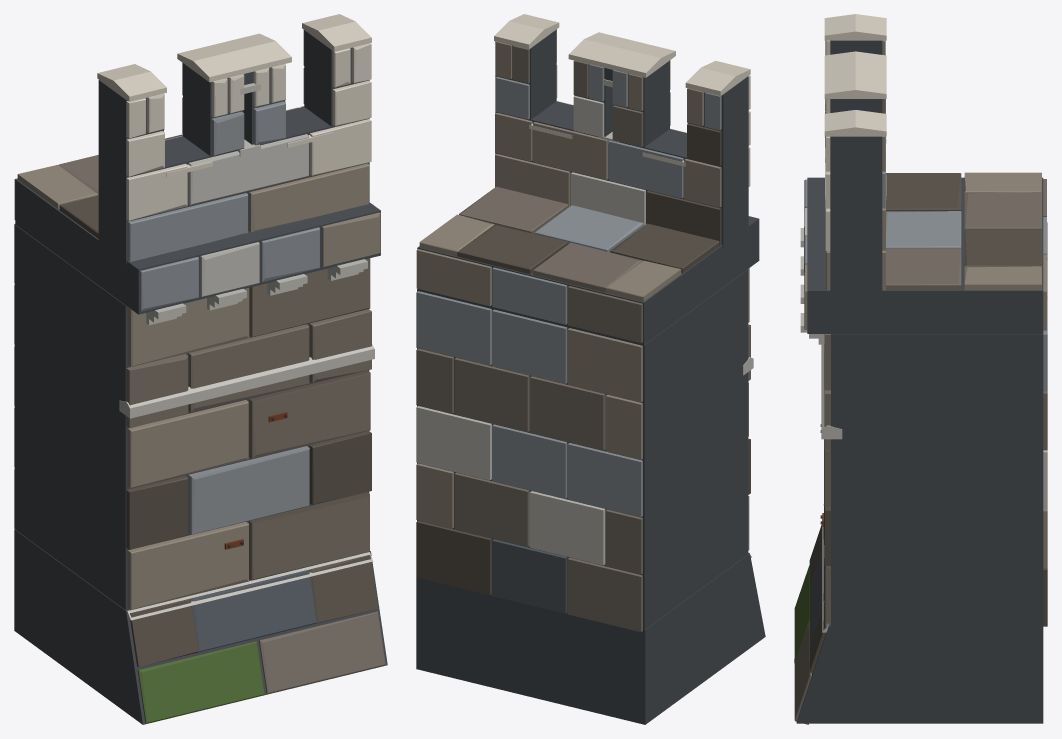
The model's file is mdvl_castle_curtain_01.glb.
The picture shows the model from 3 angles, left to right: view 1: azimuth 30°, elevation 25°; view 2: azimuth 150°, elevation 25°; view 3: azimuth 270°, elevation 25°; orthographic projection. The views are drawn at different scales.
Visible parts, largest first — view 1: mdvl_castle_curtain_01; view 2: mdvl_castle_curtain_01; view 3: mdvl_castle_curtain_01.
Boxes of the visible parts, <box> form: mdvl_castle_curtain_01: <box>14,14,387,724</box>; mdvl_castle_curtain_01: <box>416,14,765,724</box>; mdvl_castle_curtain_01: <box>794,14,1047,724</box>.
Size of the model in its own units: 2.02 by 4.92 by 1.89.
Materials: 1 (1 with a texture image).
